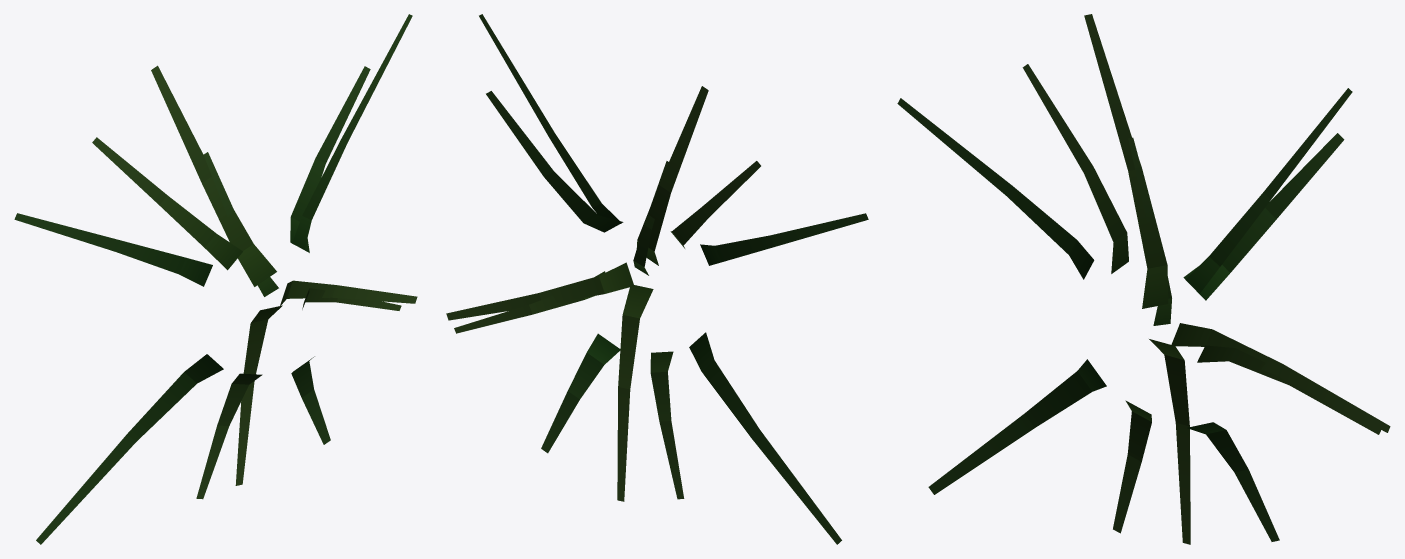
Rendered from Grass_Patch_Woodland.glb.
3 renders of one model, left to right at view 1: azimuth 30°, elevation 25°; view 2: azimuth 150°, elevation 25°; view 3: azimuth 330°, elevation 25°, orthographic. The views are drawn at different scales.
Parts seen in each view (by area): view 1: Grass_Patch_Woodland; view 2: Grass_Patch_Woodland; view 3: Grass_Patch_Woodland.
Part boxes in pixels (<box>): Grass_Patch_Woodland: <box>14,14,417,544</box>; Grass_Patch_Woodland: <box>446,14,868,544</box>; Grass_Patch_Woodland: <box>897,14,1390,544</box>.
Size of the model in its own units: 0.5524 by 0.566 by 0.0696.
